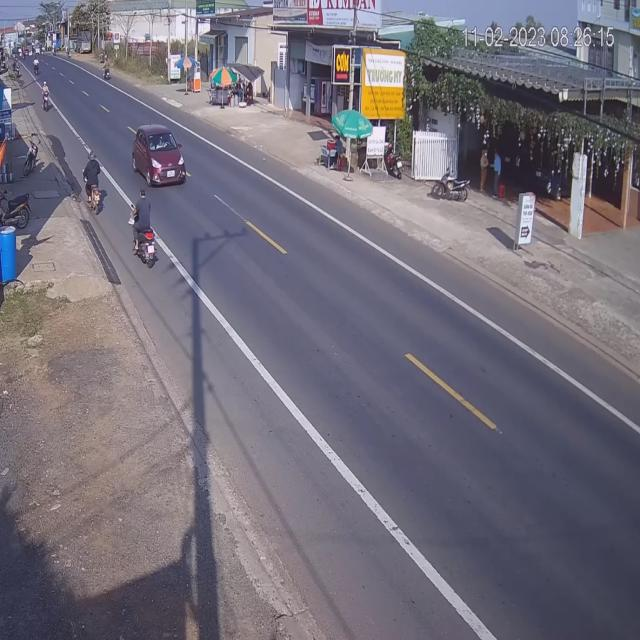car: (133, 121, 186, 187)
motorbike: (132, 187, 160, 267), (82, 150, 104, 215), (24, 135, 40, 178), (42, 79, 51, 112)
